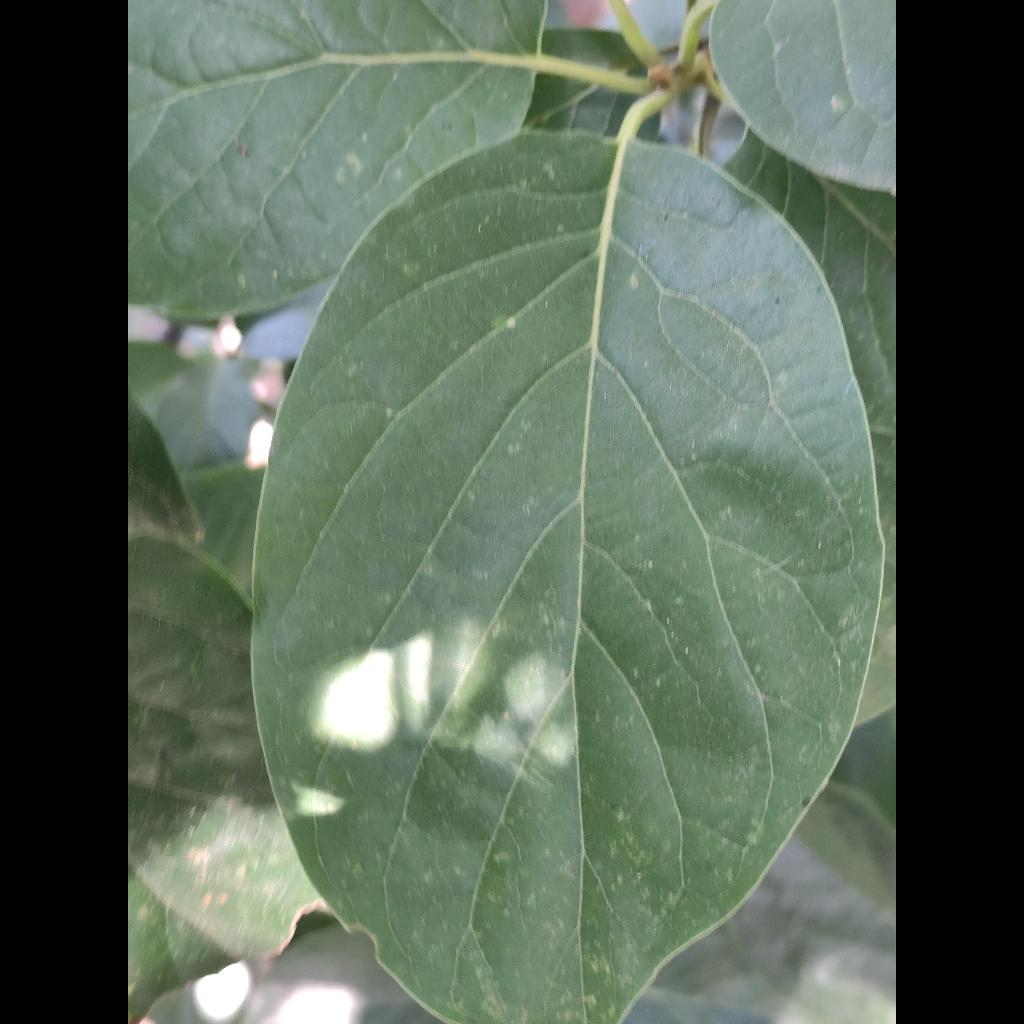Healthy: (254, 132, 882, 1024)
